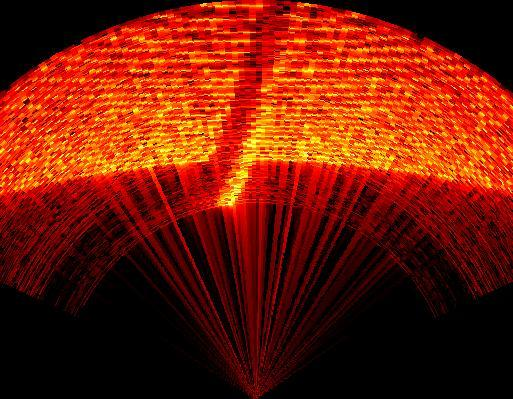pipe: (209, 0, 300, 201)
